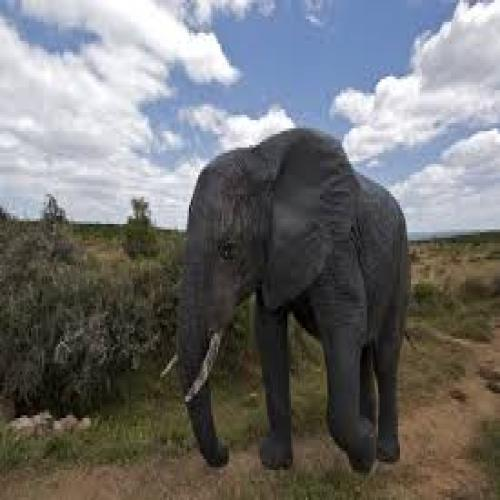asian_elephant-endangered: (160, 134, 410, 469)
